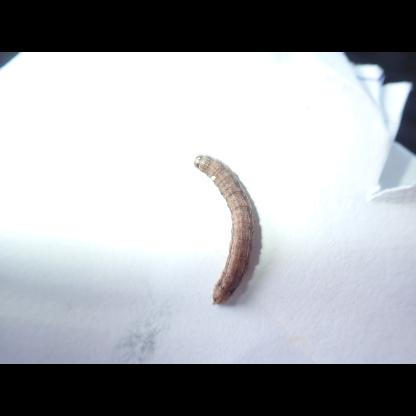Fall Armyworm Larvae: (192, 152, 258, 308)
